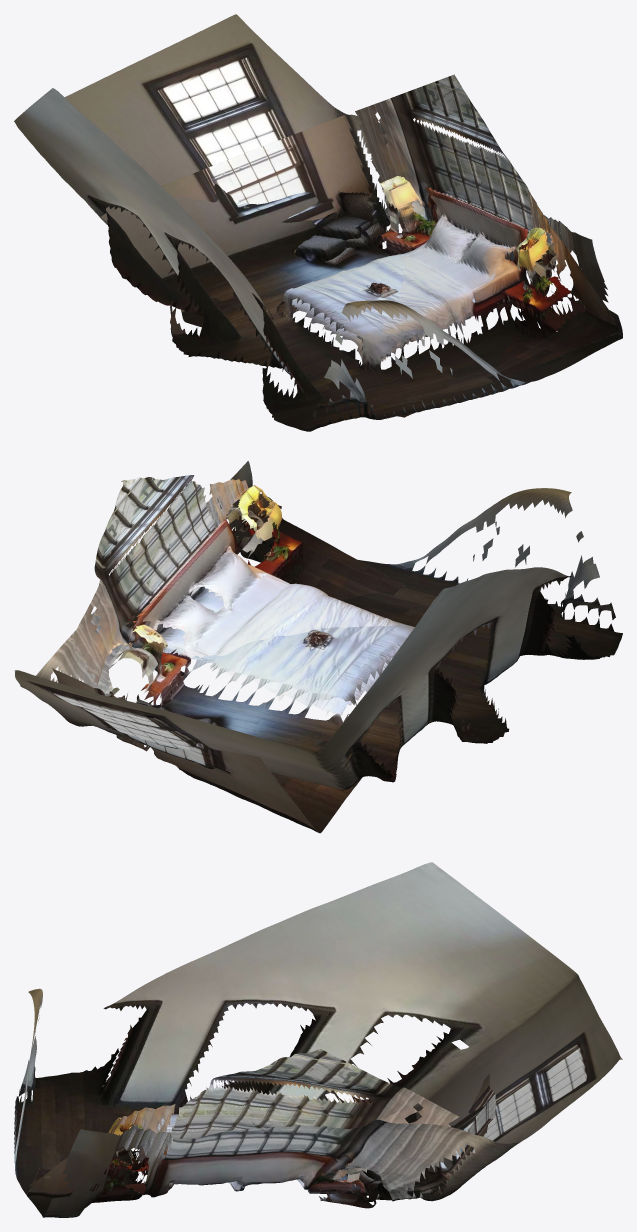
The model's file is room.glb.
3 views of the same model, one above another, from view 1: azimuth 30°, elevation 25°; view 2: azimuth 150°, elevation 25°; view 3: azimuth 270°, elevation 25° (orthographic). The views are drawn at different scales.
Visible parts, largest first — view 1: v1_f0001.jpg, v1_f0025.jpg; view 2: v1_f0001.jpg, v1_f0025.jpg; view 3: v1_f0001.jpg, v1_f0025.jpg.
Part boxes in pixels (x1,y1,x2,y2): v1_f0001.jpg: (14,14,622,431); v1_f0025.jpg: (161,74,618,417); v1_f0001.jpg: (14,461,622,790); v1_f0025.jpg: (52,475,405,833); v1_f0001.jpg: (14,862,622,1217); v1_f0025.jpg: (27,1049,495,1208).
Bounding box in the file's own units: 15.19 × 10.02 × 22.65.
Materials: 2 (2 with a texture image).
